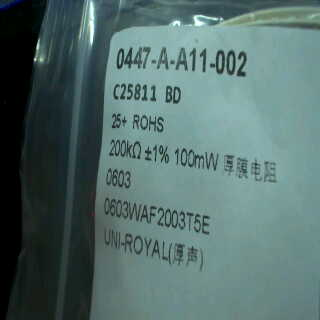200kR: (105, 137, 142, 162)
